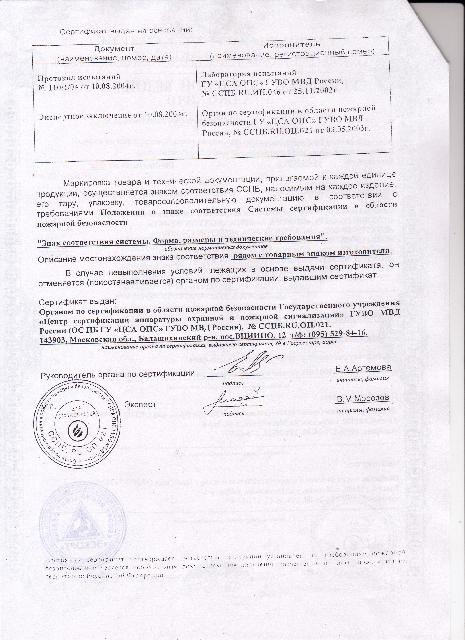stamp: (32, 379, 120, 469)
